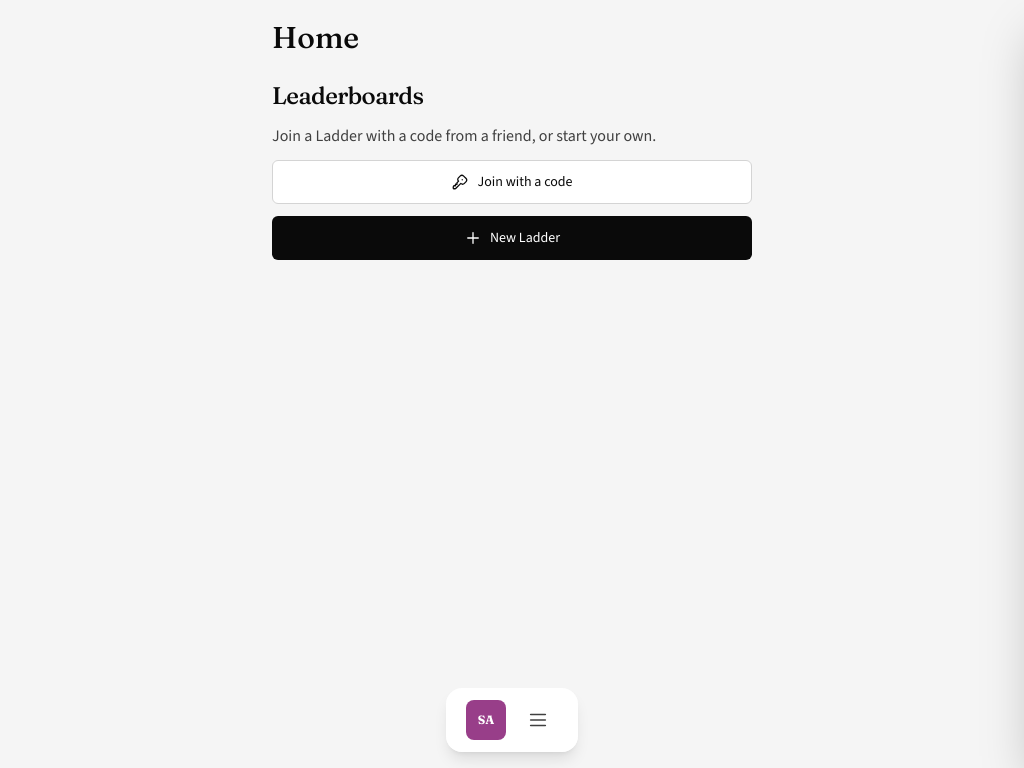
Test case: Home Ladders › shows a Removed Ladder member the refusal inline
The image size is (1024, 768).
Click the button "Join with a code" at (512, 182), box left=272, top=160, right=752, bottom=204
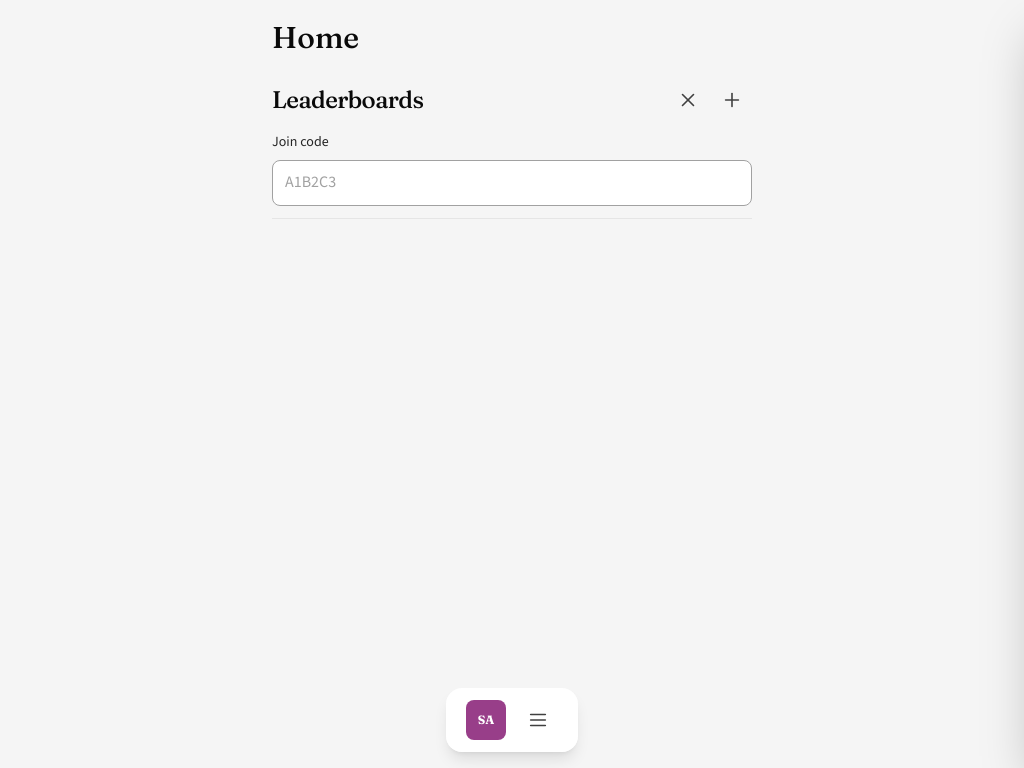
Type "FP7K2Q" into the field labelled "Join code" at (512, 183), box left=272, top=160, right=752, bottom=206
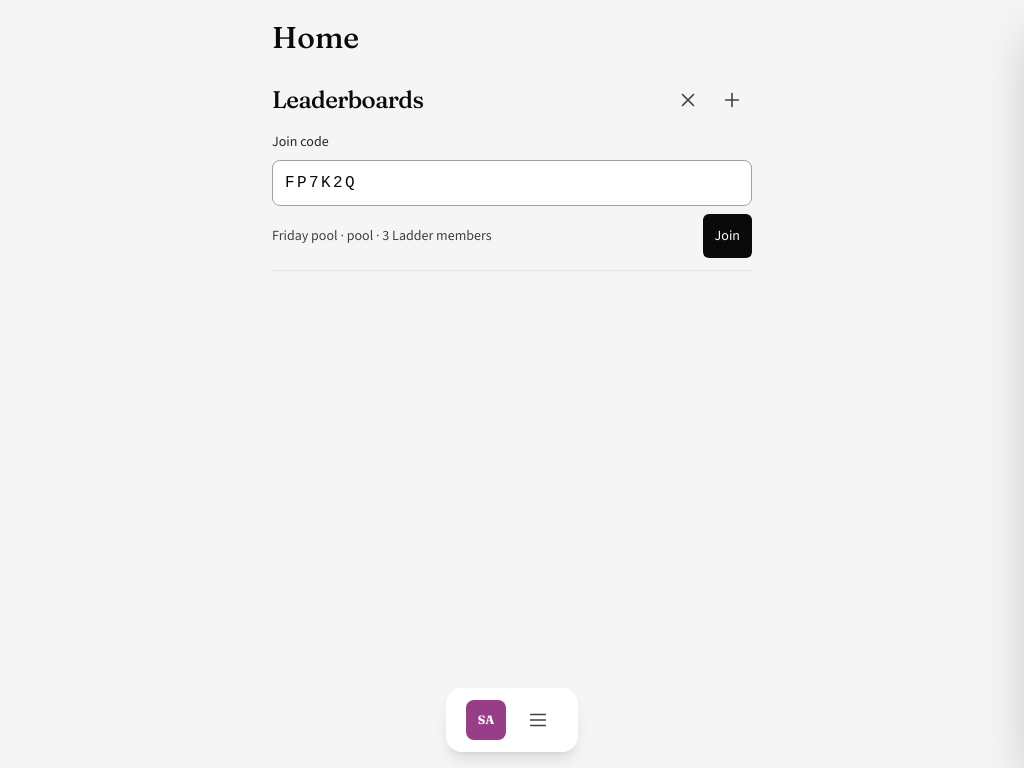
Click the button "Join" at (727, 236), box left=703, top=214, right=752, bottom=258
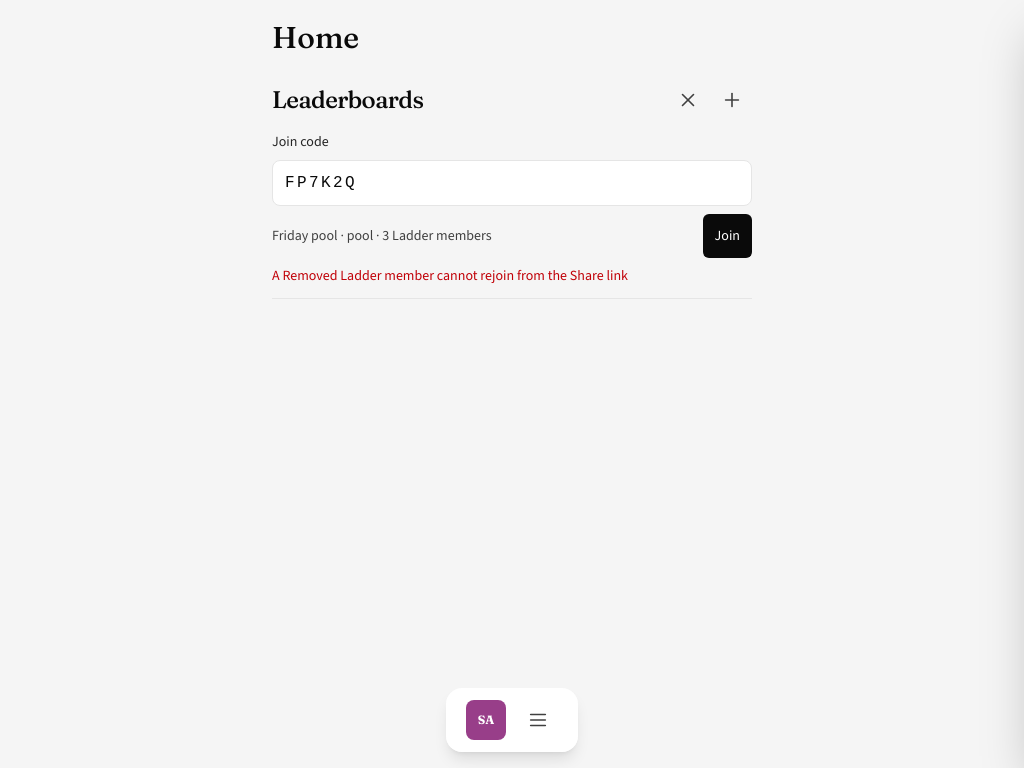
expect the message reads "A Removed Ladder member cannot rejoin from the Share link": met, box left=272, top=266, right=628, bottom=285
